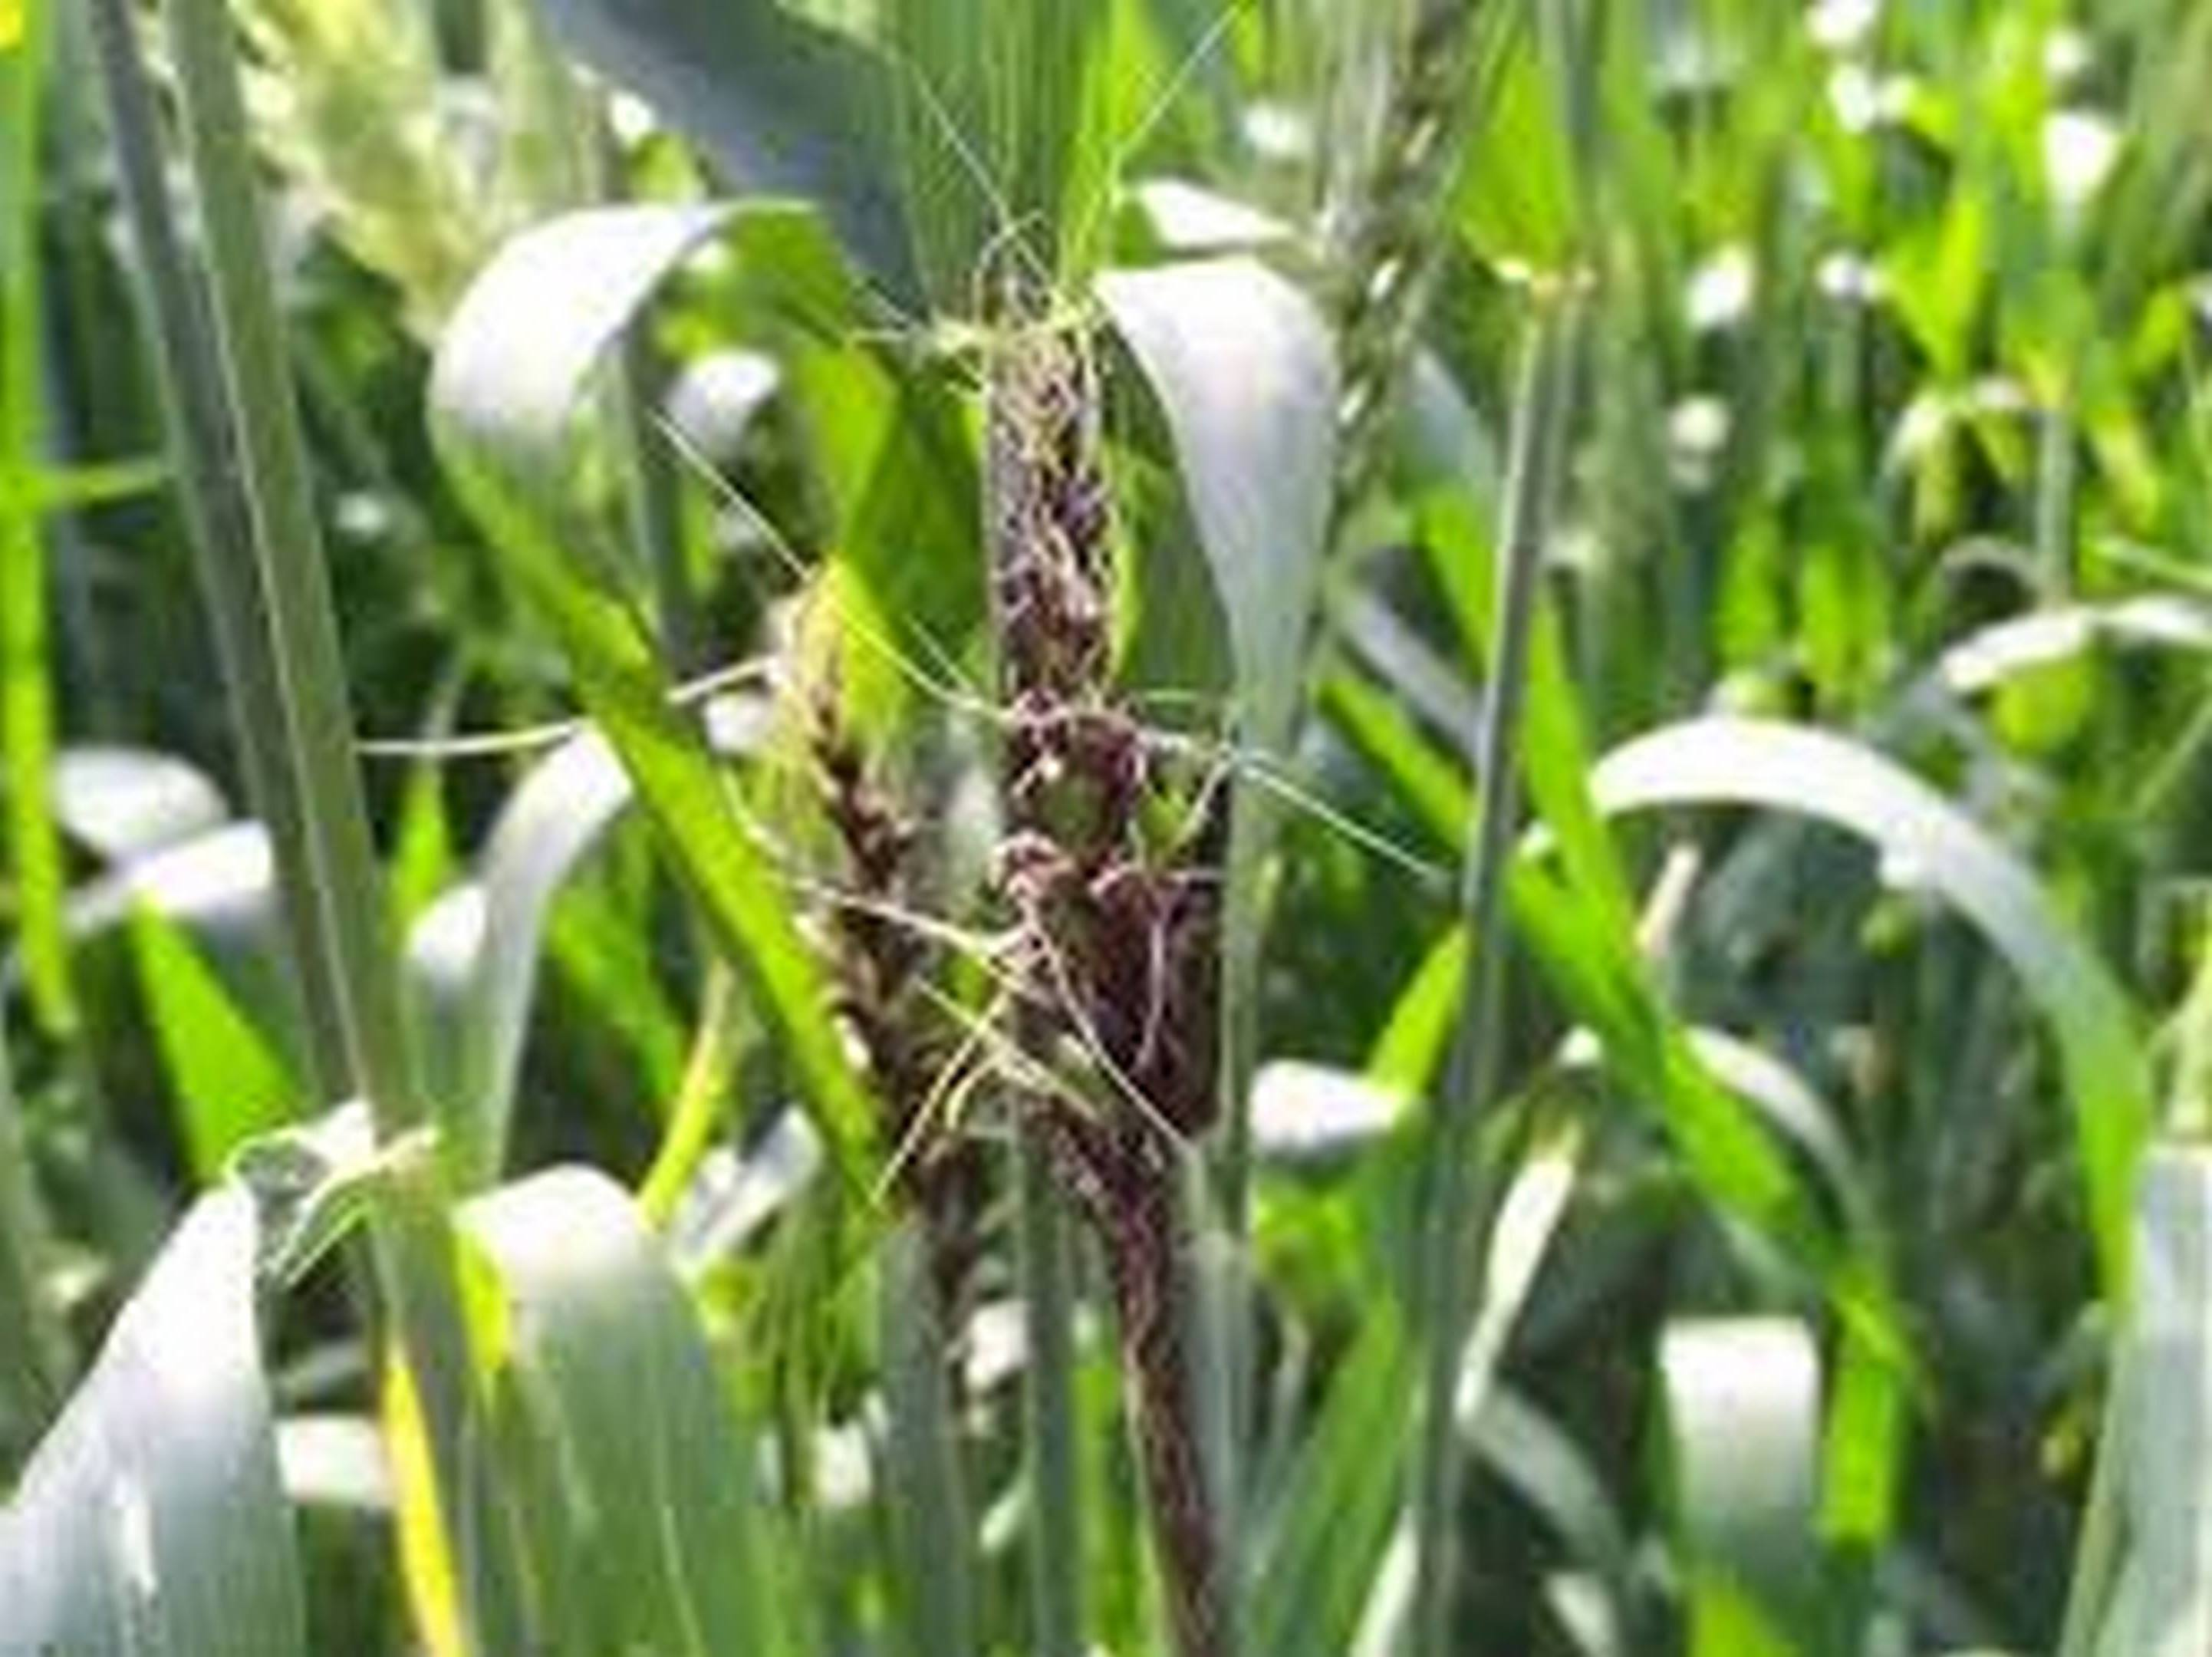Wheat Loose Smut: (776, 315, 1230, 1300)
